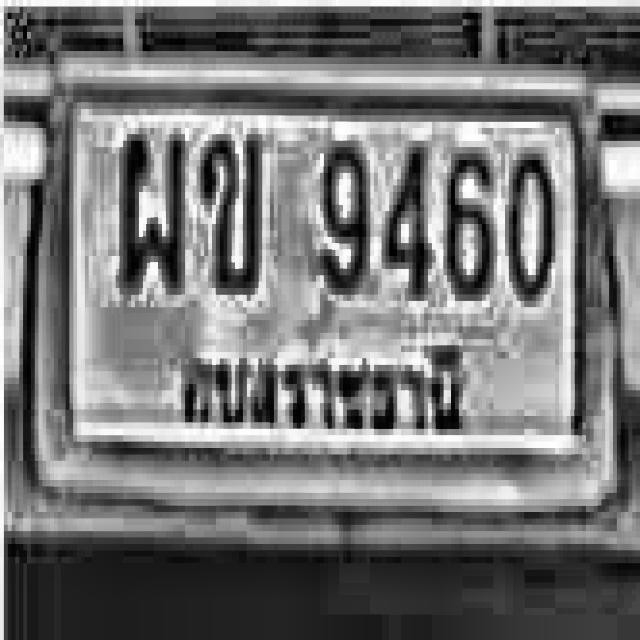license-plate: (25, 50, 627, 552)
